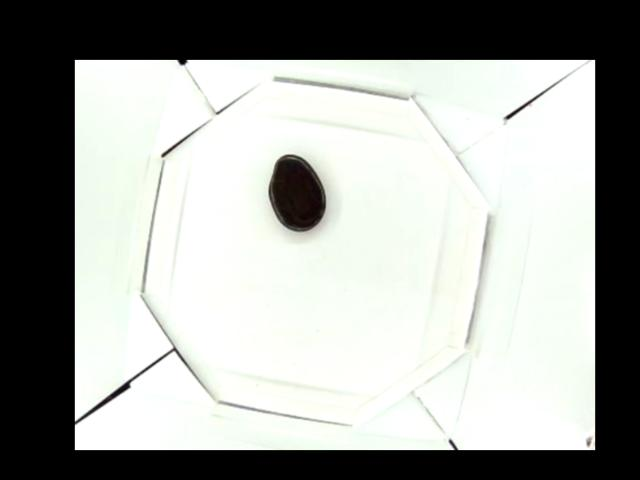Pebble: (269, 154, 325, 235)
